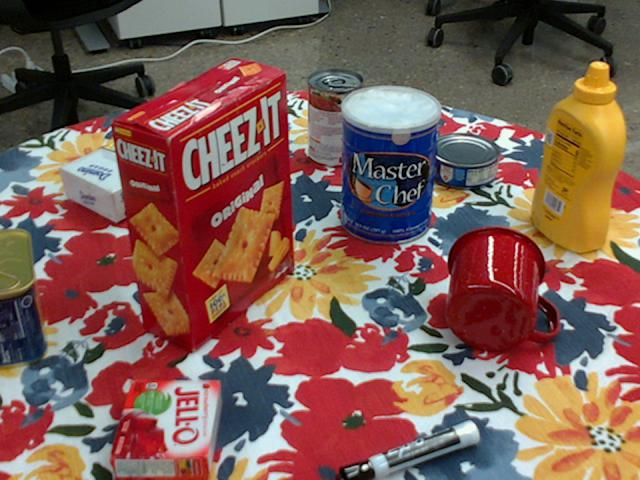cracker_box: (107, 58, 289, 350)
gelatin_box: (114, 380, 221, 479)
large_marker: (337, 420, 481, 479)
master_chef_can: (341, 85, 441, 245)
mug: (445, 225, 559, 351)
mustard_bottle: (528, 64, 623, 253)
potted_meat_can: (0, 227, 46, 365)
sugar_box: (58, 116, 225, 223)
tomato_soup_can: (306, 68, 363, 167)
tuna_fish_can: (429, 134, 501, 190)
